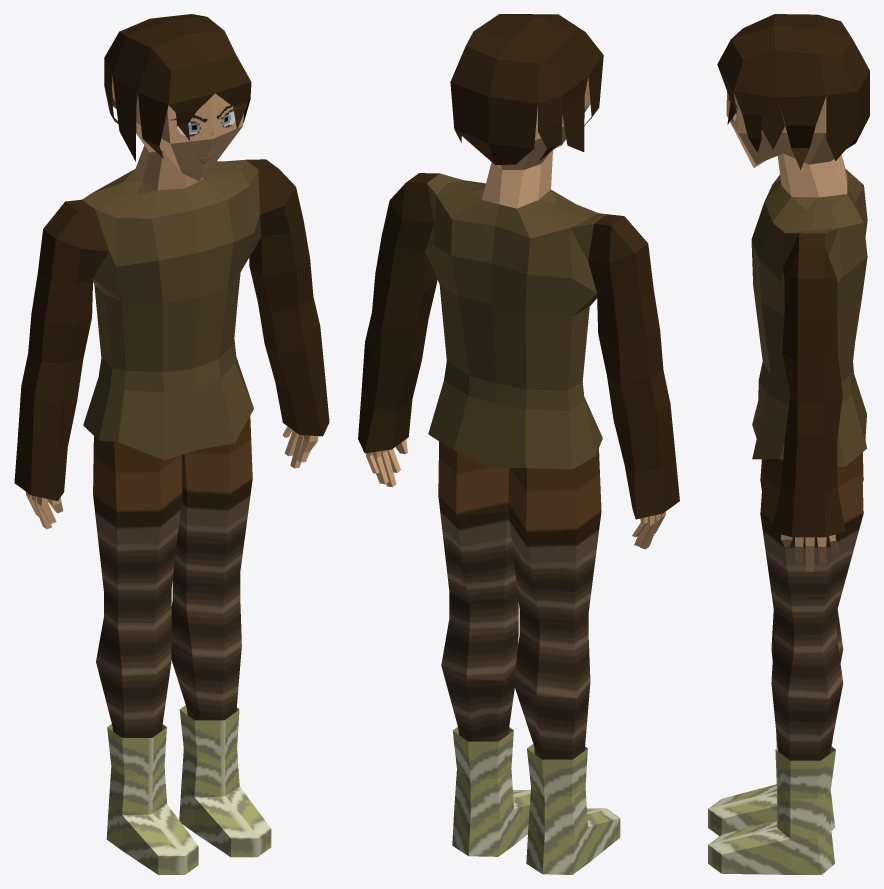
Rendered from VillagerF4.fbx.
3 views of the same model, side by side, from view 1: azimuth 30°, elevation 25°; view 2: azimuth 150°, elevation 25°; view 3: azimuth 270°, elevation 25° (orthographic). The views are drawn at different scales.
Visible parts, largest first — view 1: Cube; view 2: Cube; view 3: Cube.
Boxes of the visible parts, x1,y1,x2,y2 form: Cube: (14,14,329,874); Cube: (358,14,679,874); Cube: (708,14,869,874).
Bounding box in the file's own units: 64.73 × 168 × 29.94.
1 material, 1 textured.
